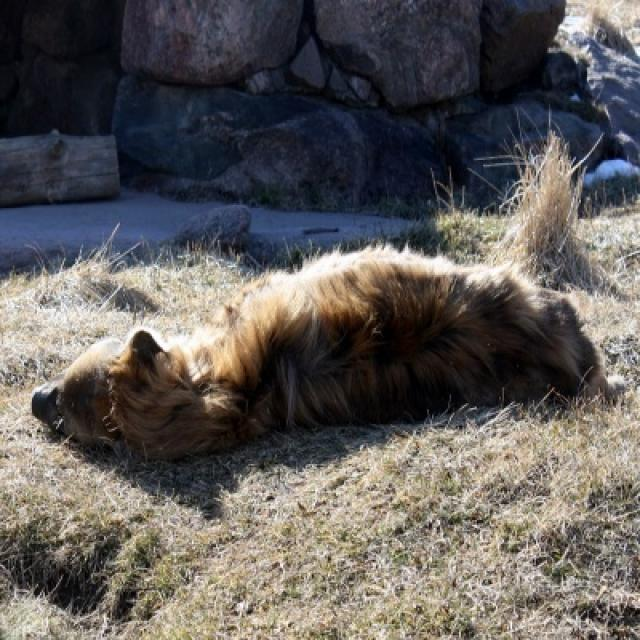hyena: (32, 246, 613, 459)
